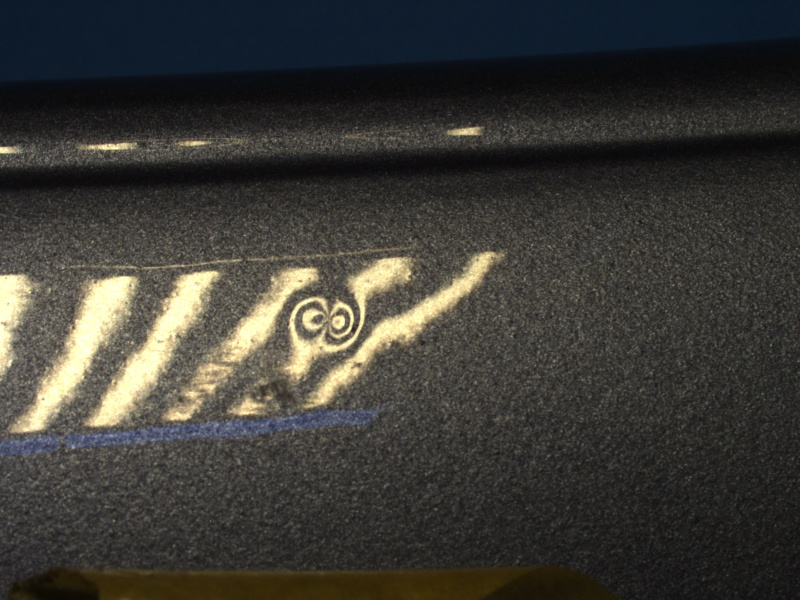bad: (286, 279, 371, 357)
